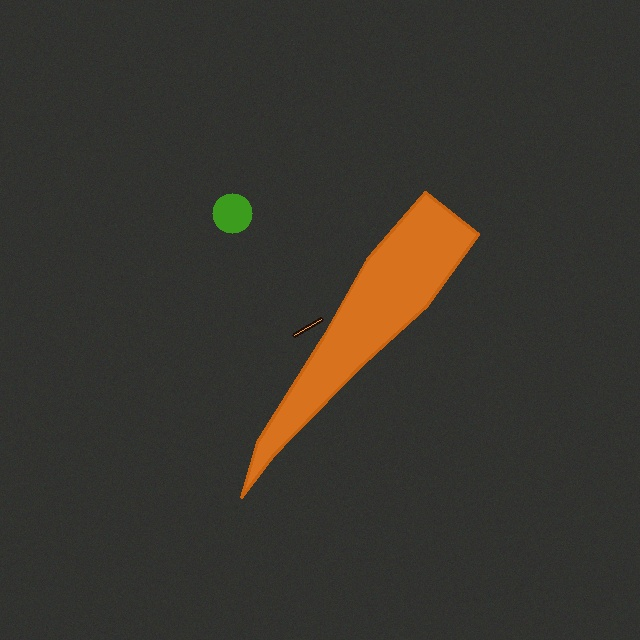Damaged_Carrot: (233, 184, 486, 505)
